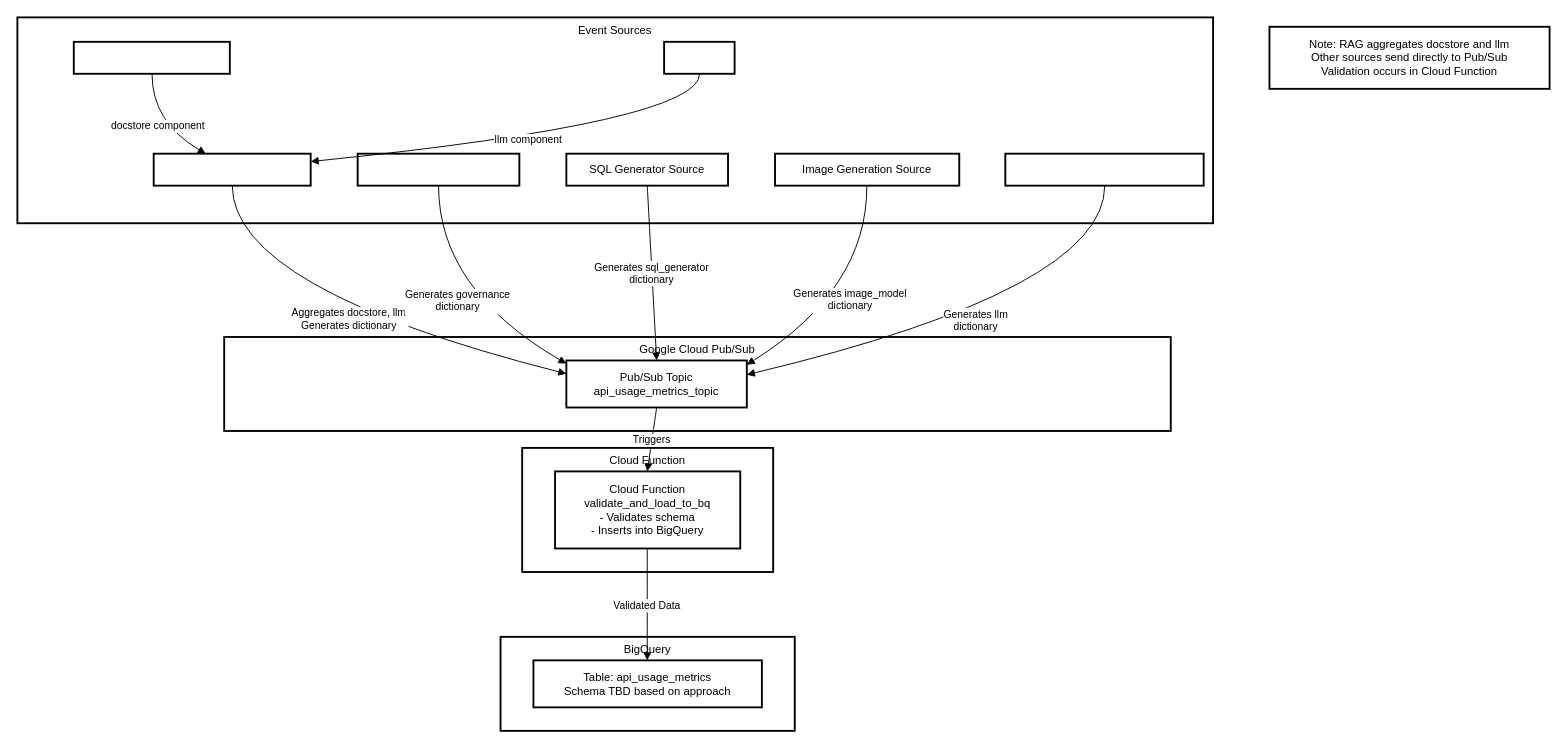
This 1566x747 diagram has some shape labels left out. Here are the shapes that lost their labels. From the top down, the box of each, then its label:
(72, 40, 230, 74): Document Search API
(663, 40, 735, 74): Chat API
(152, 152, 311, 186): RAG FastAPI Backend
(356, 152, 520, 186): AI Governance Source
(1004, 152, 1204, 186): Text Summarization Source
